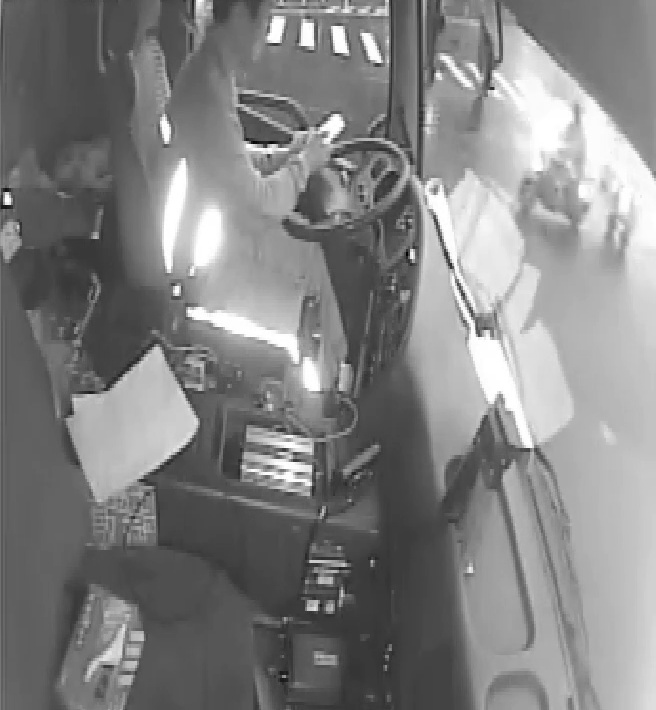cellphone: (306, 106, 348, 151)
